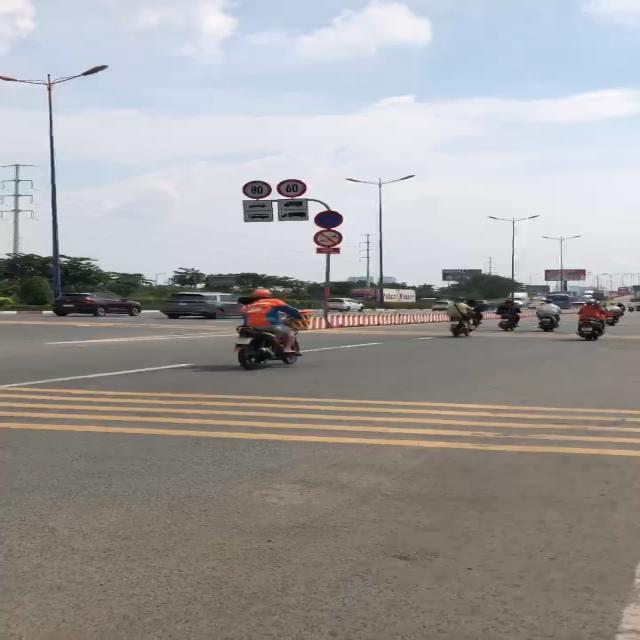Bien bao toc do toi da cho phep: (240, 178, 272, 200), (276, 178, 310, 198)
